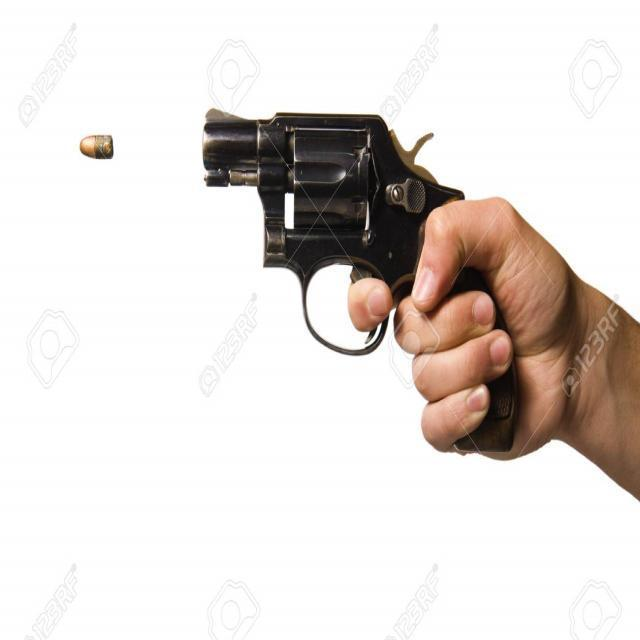gun: (200, 109, 516, 458)
